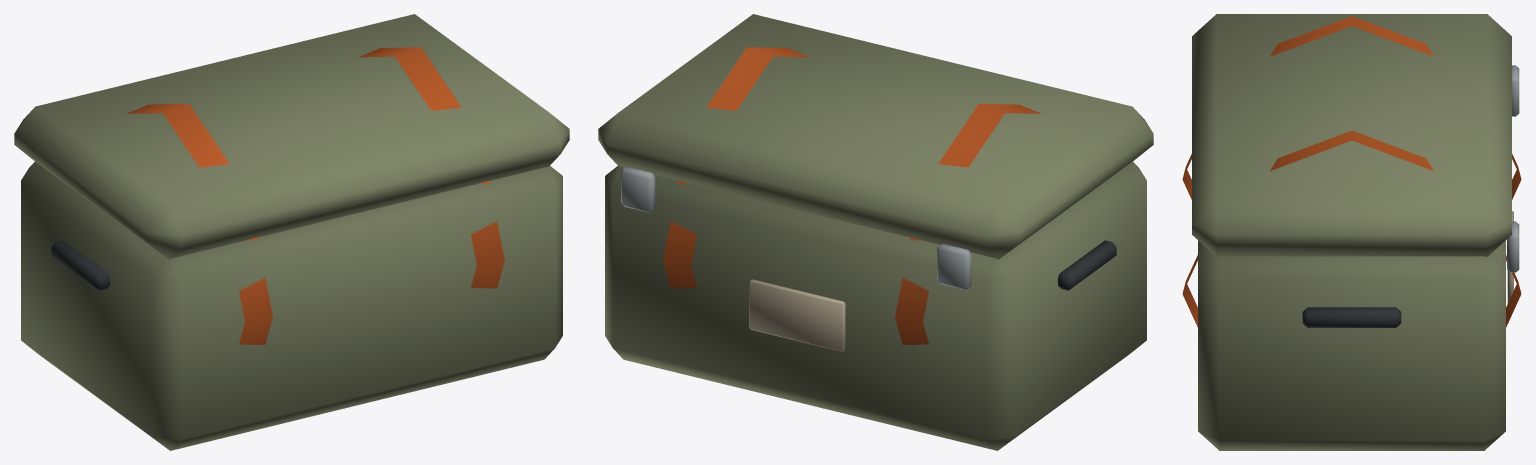
Rendered from chest_1.glb.
The picture shows the model from 3 angles, left to right: view 1: azimuth 30°, elevation 25°; view 2: azimuth 150°, elevation 25°; view 3: azimuth 270°, elevation 25°; orthographic projection.
Visible parts, largest first — view 1: chest_1; view 2: chest_1; view 3: chest_1.
Boxes of the visible parts, box(x1,y1,x2,y2) form: chest_1: box(14, 14, 569, 450); chest_1: box(598, 14, 1153, 450); chest_1: box(1182, 14, 1521, 450).
Bounding box in the file's own units: 0.83 × 0.5508 × 0.5508.
1 material, 1 textured.
